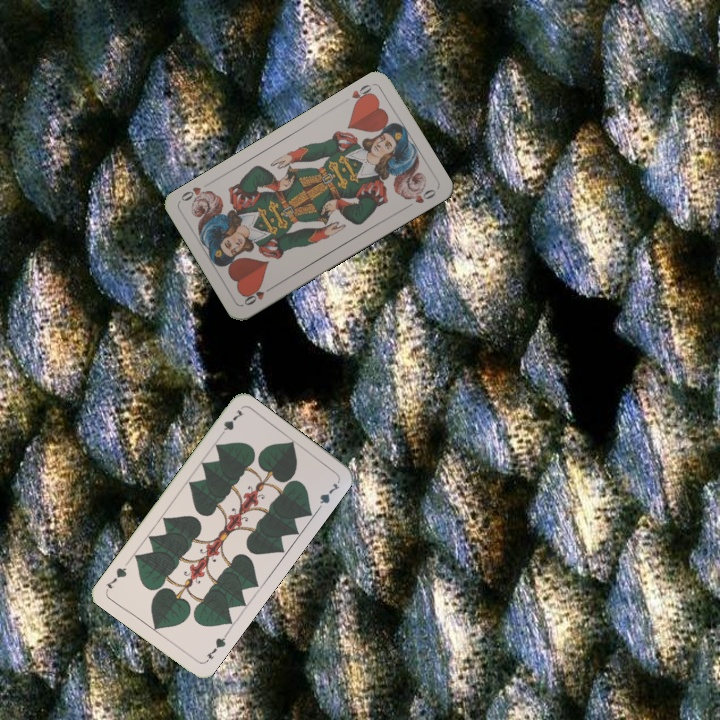G7: (214, 405, 247, 441), (201, 630, 230, 665)
HO: (338, 80, 376, 108), (240, 282, 276, 308)
